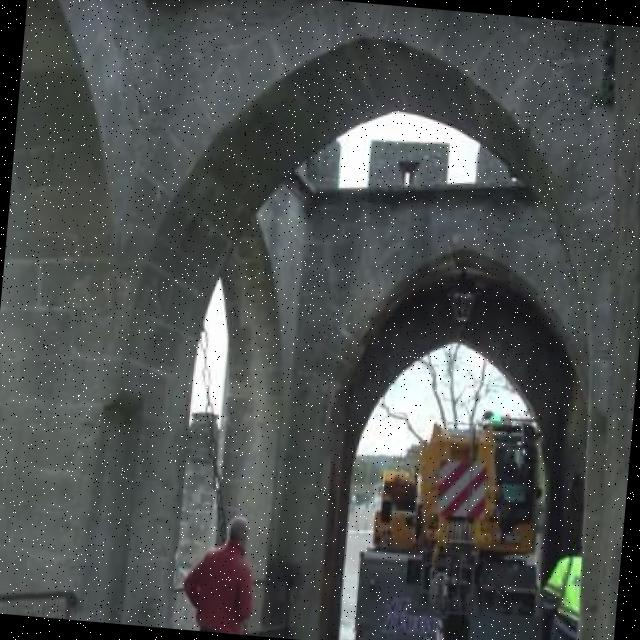Mobile Crane: (348, 399, 558, 640)
